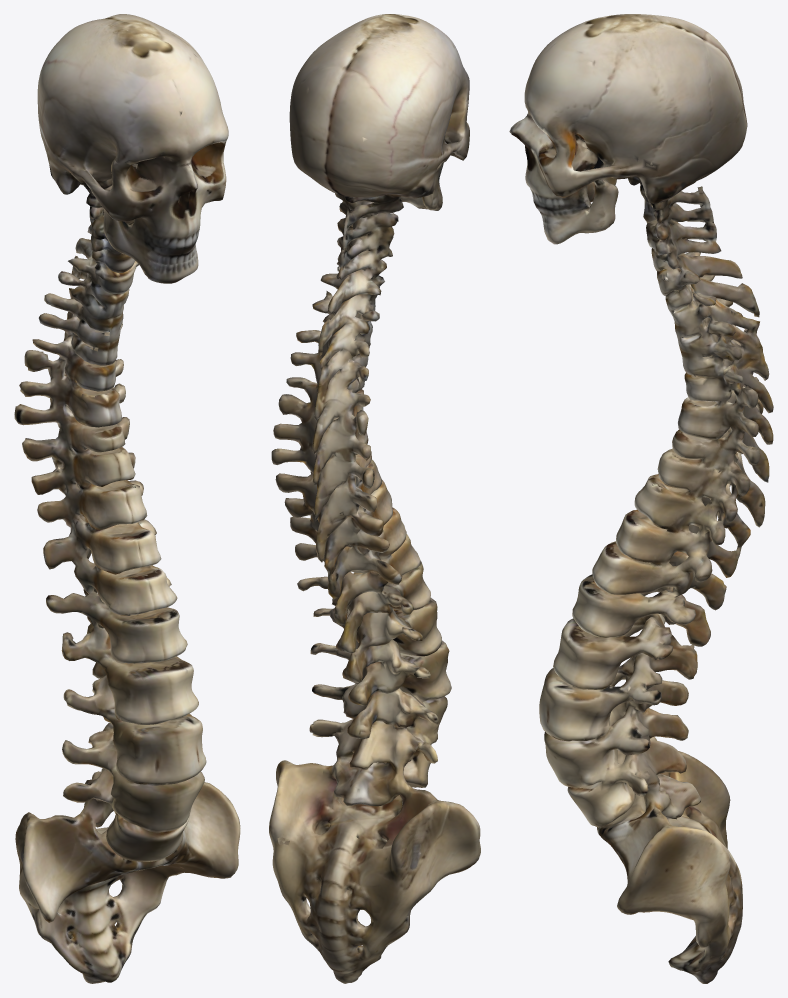
Rendered from ajayspinal.glb.
3 renders of one model, left to right at view 1: azimuth 30°, elevation 25°; view 2: azimuth 150°, elevation 25°; view 3: azimuth 270°, elevation 25°, orthographic. The views are drawn at different scales.
Parts seen in each view (by area): view 1: Stylized Human Spine and Skull; view 2: Stylized Human Spine and Skull; view 3: Stylized Human Spine and Skull.
Part boxes in pixels (<box>): Stylized Human Spine and Skull: <box>14,14,240,983</box>; Stylized Human Spine and Skull: <box>269,14,480,983</box>; Stylized Human Spine and Skull: <box>509,14,773,983</box>.
Bounding box in the file's own units: 0.2218 × 0.9686 × 0.2416.
Materials: 1 (1 with a texture image).
